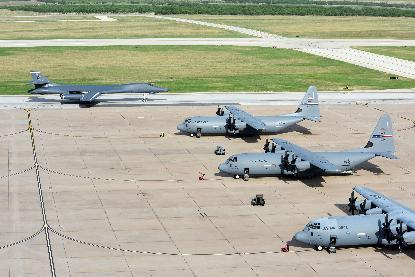AV8B: (23, 69, 170, 102)
Be200: (218, 113, 401, 178), (294, 186, 413, 252), (177, 85, 322, 136)
